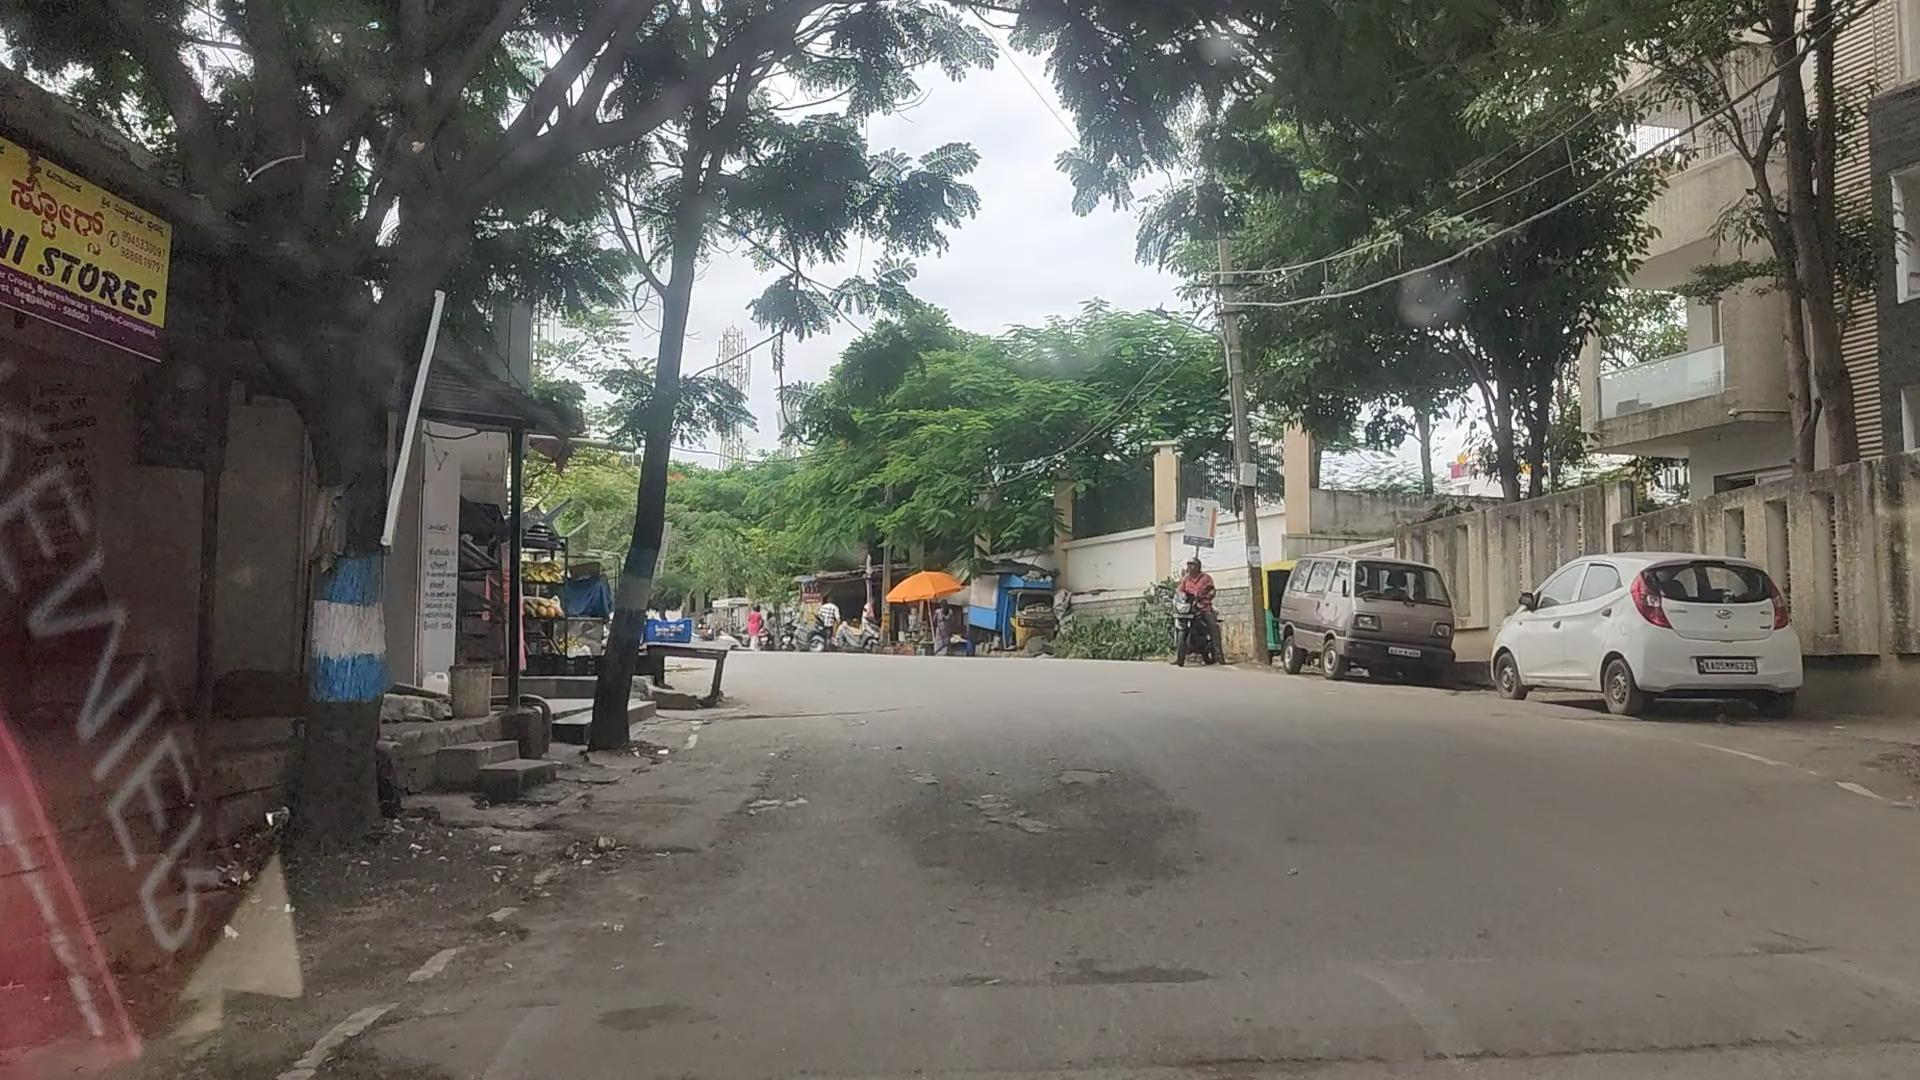RoadDamages: (297, 920, 630, 1080), (534, 818, 753, 911), (963, 729, 1114, 822)
SpeedBump: (629, 963, 1920, 1054)
